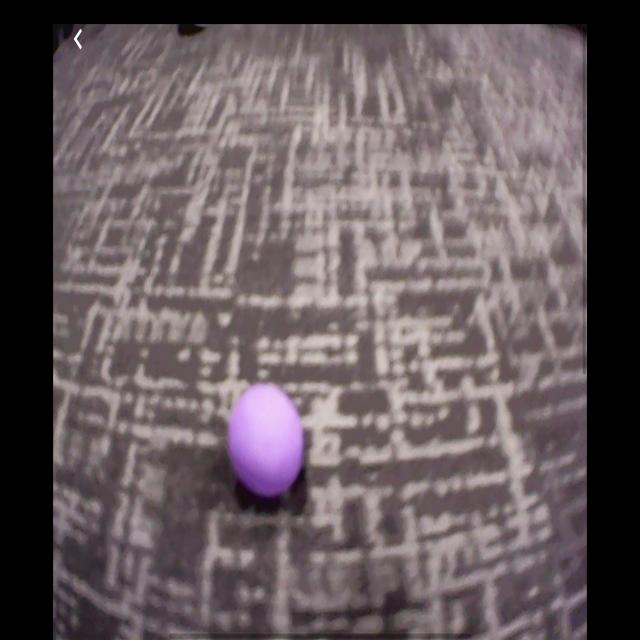ball: (231, 385, 303, 491)
